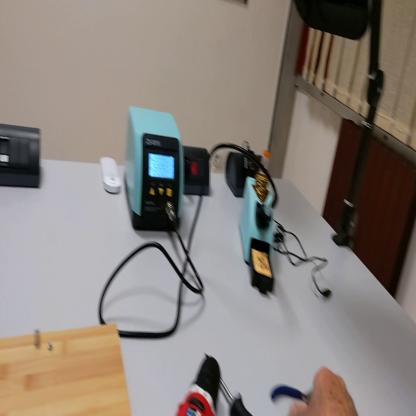electric screwdriver: (177, 355, 222, 415)
hand: (291, 372, 359, 416)
pliers: (267, 380, 310, 405)
screwdriver-: (207, 354, 254, 415)
socket: (181, 143, 212, 199), (227, 148, 262, 197)
welder base: (241, 138, 279, 294)
welder probe tip: (260, 192, 274, 229)
welder station: (125, 101, 184, 235)
working area: (1, 313, 133, 415)
